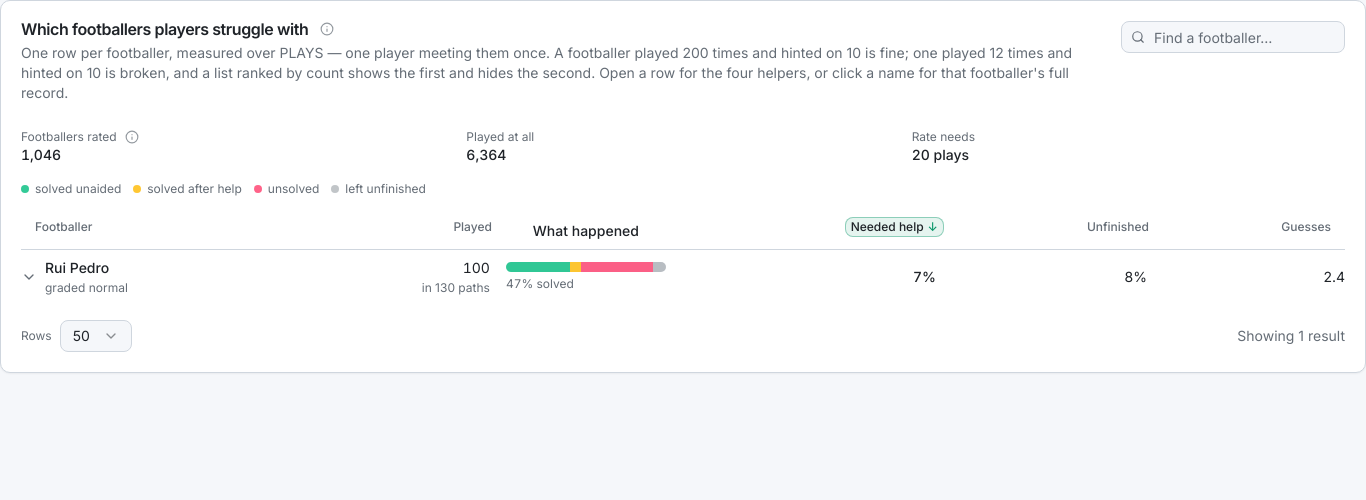
Test: footballerContent › opens onto how the footballer was helped, and not before
This screenshot has width=1366, height=500.
Expected: the text "of 80 hinted" is not shown
Click the button named "Show how Rui Pedro was helped" at (29, 277), box [17,265,41,289]
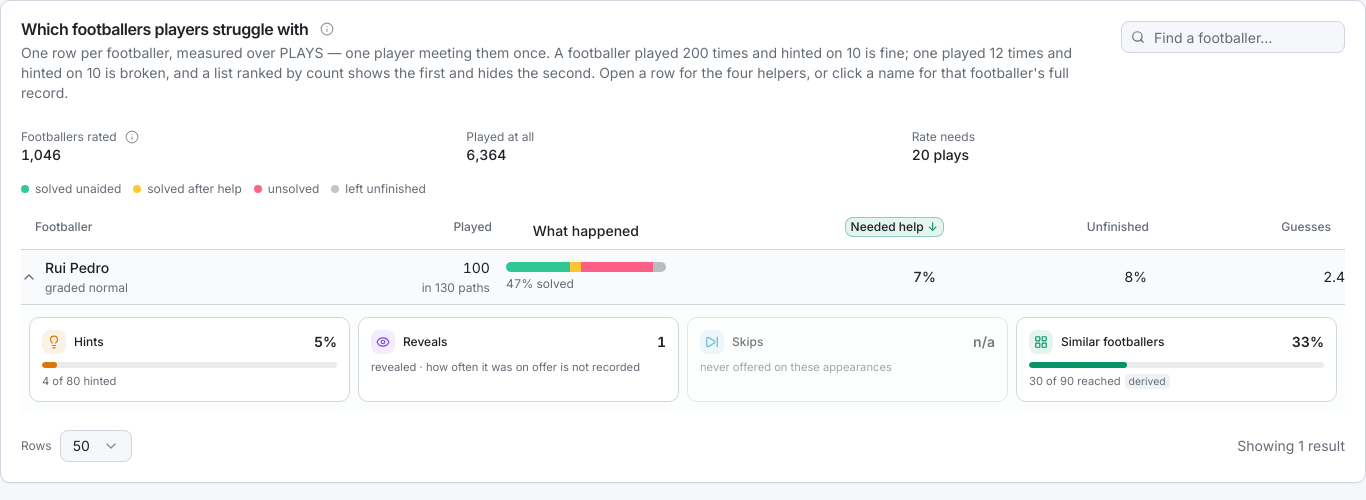
Now the text "4 of 80 hinted" is shown, box [42,374,116,388]
